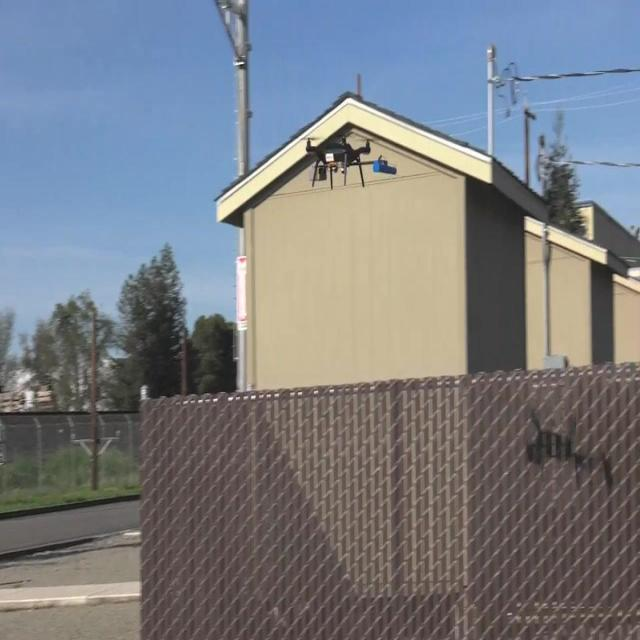UAV: (306, 136, 382, 190)
